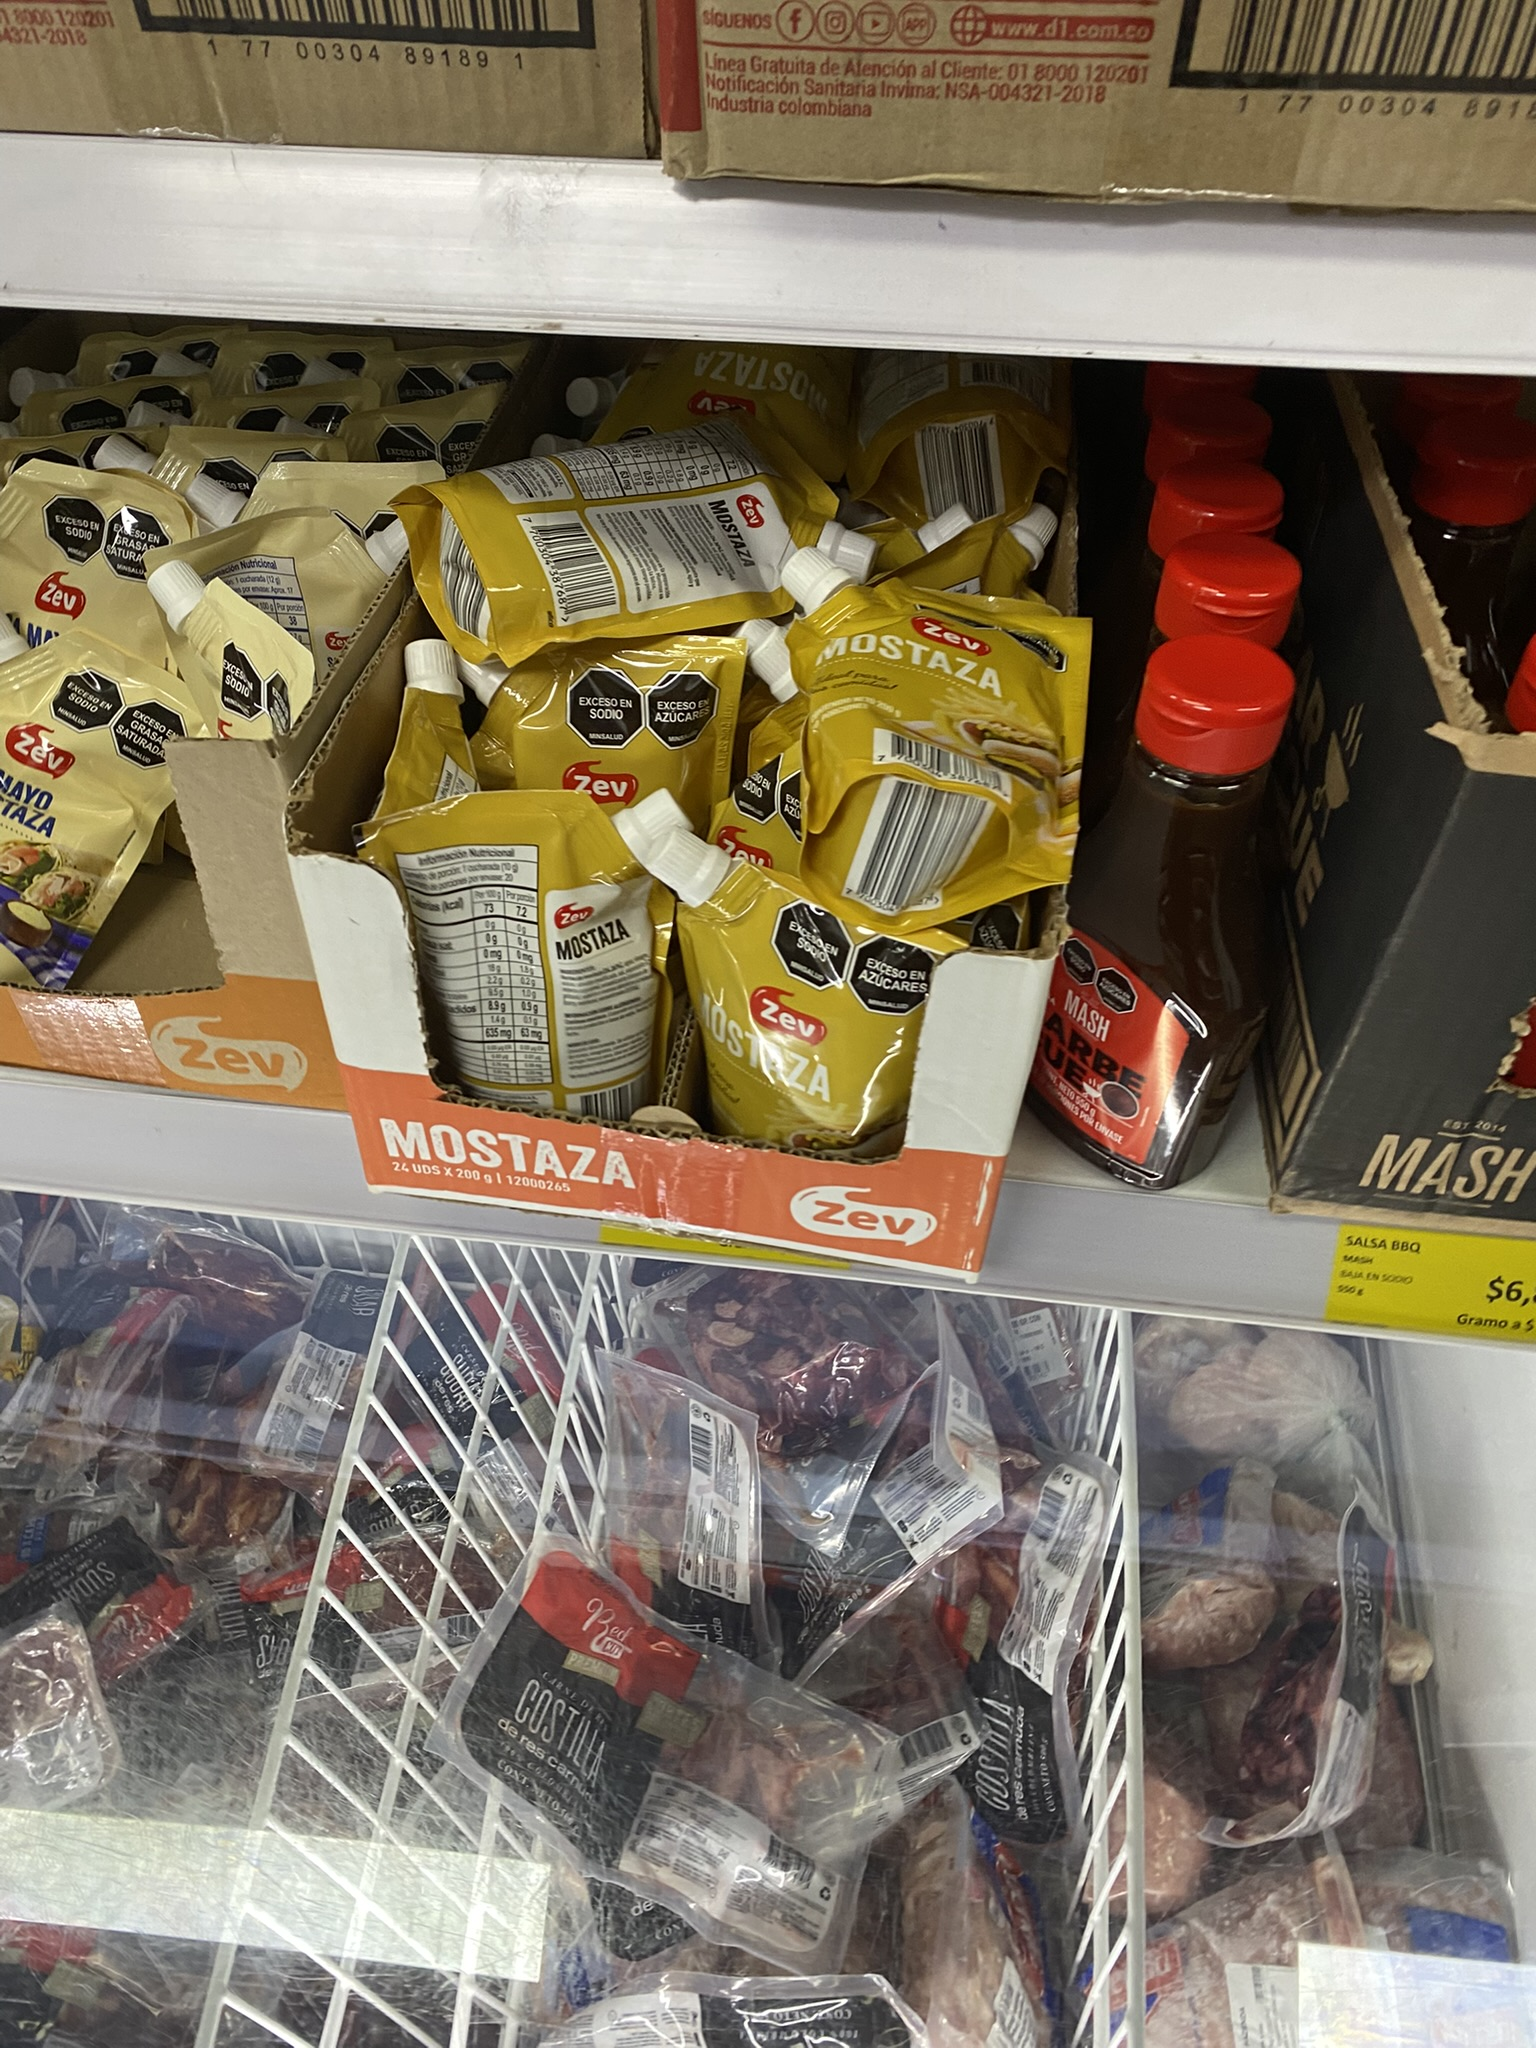Mostaza: (358, 784, 697, 1161), (779, 524, 1092, 919), (655, 829, 978, 1169), (387, 429, 887, 639), (461, 647, 750, 824)
